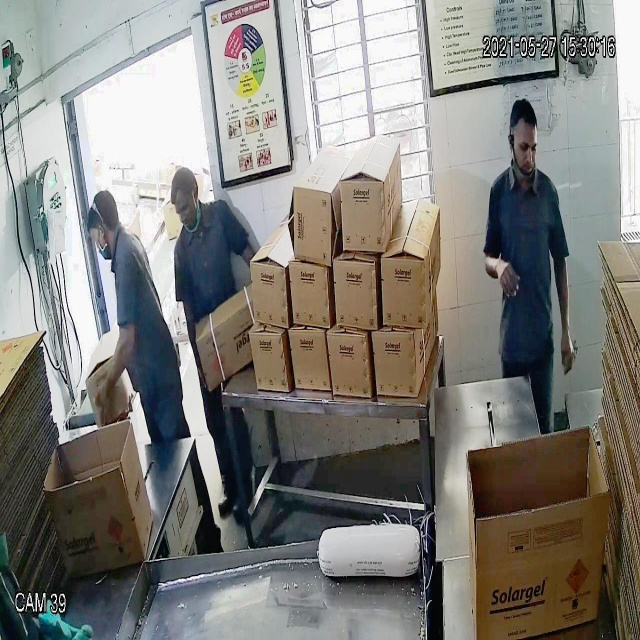Sin_gafas: (505, 129, 544, 163)
